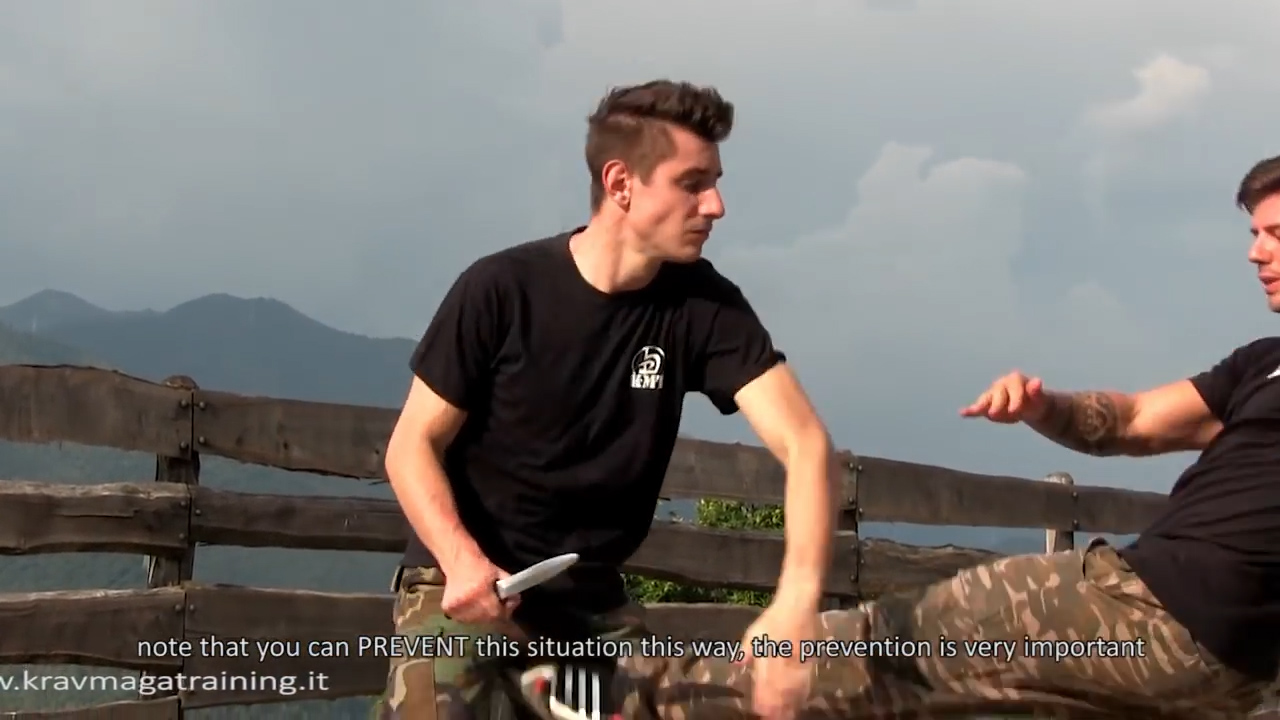knife: (430, 543, 589, 630)
